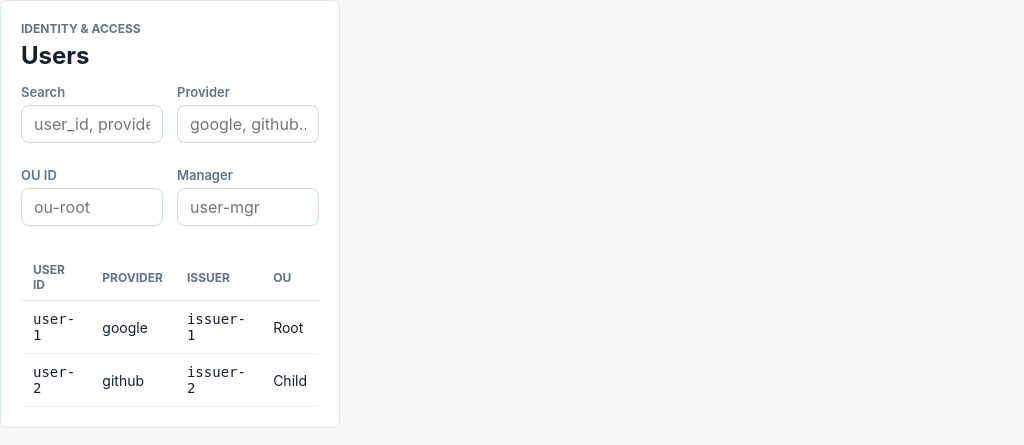
UserWorkspace › shows user detail when a user is clicked
The image size is (1024, 445).
Click the text "google" at [133, 327], box [90,300,175,354]
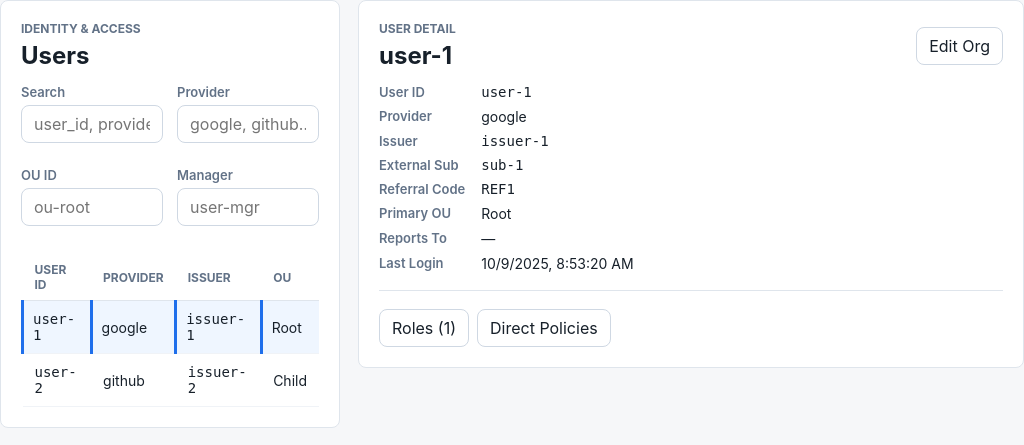
Check: the text "User Detail" is shown, box [379,21,456,36]
